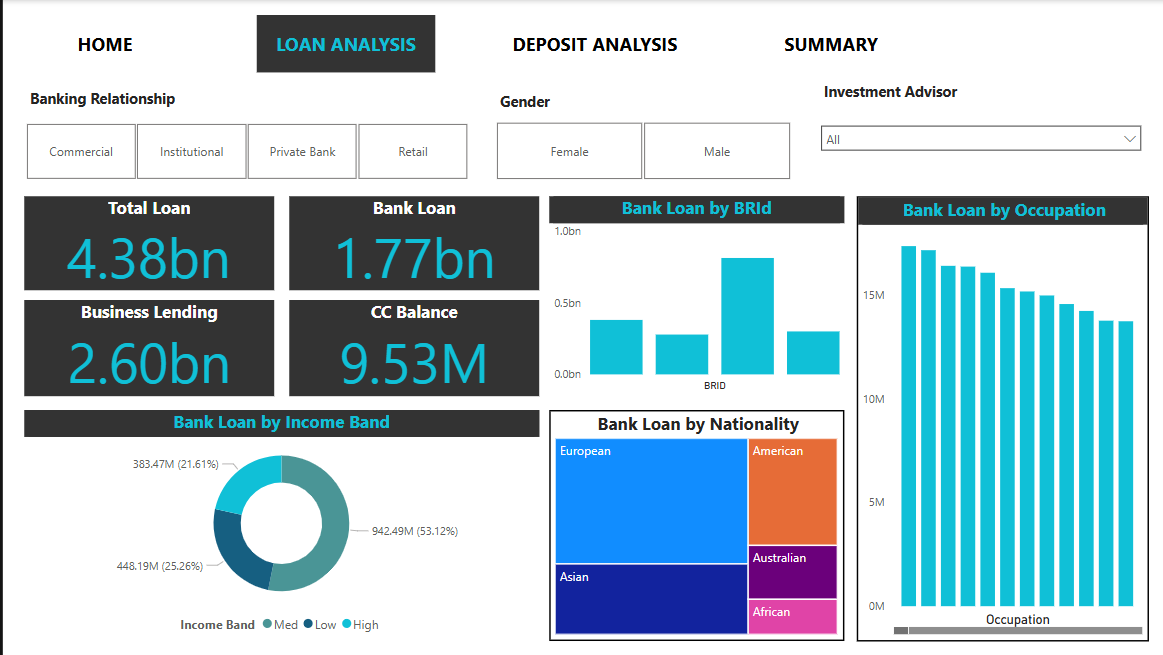

What the dashboard file says about the page in this screenshot:
{"tool":"powerbi","page":{"name":"Loan Analysis","canvas":[1280,720],"ordinal":1},"visuals":[{"type":"actionButton","title":"HOME","box":[551.6,16.5,196.2,63.1],"z":0},{"type":"actionButton","title":"HOME","box":[811,16.5,196.2,63.1],"z":1000},{"type":"actionButton","title":"HOME","box":[13.7,16.5,196.2,63.1],"z":2000},{"type":"actionButton","title":"HOME","box":[278.6,16.5,196.2,63.1],"z":3000},{"type":"card","title":"Total Loan","fields":{"Values":["Measure Table.Total Loan"]},"box":[23.3,215.4,274.4,102.9],"z":4000},{"type":"card","title":"Bank Loan","fields":{"Values":["Sum(Clients - Banking.Bank Loans)"]},"box":[314.2,215.4,274.4,102.9],"z":5000},{"type":"card","title":"CC Balance","fields":{"Values":["Sum(Clients - Banking.Credit Card Balance)"]},"box":[314.2,329.3,274.4,105.7],"z":6000},{"type":"card","title":"Business Lending","fields":{"Values":["Sum(Clients - Banking.Business Lending)"]},"box":[23.3,329.3,274.4,105.7],"z":7000},{"type":"donutChart","title":"Bank Loan by Income Band","fields":{"Category":["Clients - Banking.Income Band"],"Y":["Sum(Clients - Banking.Bank Loans)"]},"box":[23.3,450.1,565.4,253.9],"z":8000},{"type":"clusteredColumnChart","title":"Bank Loan by BRId","fields":{"Category":["Banking Relationship.BRId"],"Y":["Sum(Clients - Banking.Bank Loans)"]},"box":[599.7,215.4,323.8,219.6],"z":9000},{"type":"treemap","title":"Bank Loan by Nationality","fields":{"Group":["Clients - Banking.Nationality"],"Values":["Sum(Clients - Banking.Bank Loans)"]},"box":[599.7,450.1,323.8,253.9],"z":10000},{"type":"clusteredColumnChart","title":"Bank Loan by Occupation","fields":{"Y":["Sum(Clients - Banking.Bank Loans)"],"Category":["Clients - Banking.Occupation"]},"box":[937.2,215.4,321.1,488.5],"z":11000},{"type":"slicer","fields":{"Values":["Banking Relationship.Banking Relationship"]},"box":[0,128.7,533.8,74.1],"z":12000,"group":"g1"},{"type":"slicer","fields":{"Values":["Gender.Gender"]},"box":[515.7,127.6,371.9,75.5],"z":13000,"group":"g1"},{"type":"slicer","fields":{"Values":["Investment Advisor.Investment Advisor"]},"box":[887.5,127.6,371.9,75.5],"z":14000,"group":"g1"},{"type":"textbox","box":[24.8,91.7,491.3,35.7],"z":16000,"group":"g1"},{"type":"textbox","box":[540.4,94.7,322.5,32.9],"z":17000,"group":"g1"},{"type":"textbox","box":[887.5,83.7,362.3,43.9],"z":18000,"group":"g1"},{"type":"group","id":"g1","title":"Group 1","box":[0,83.7,1259.7,119.4],"z":18001}]}

Visuals, with their boxes in screenshot pixels (x1, y1, x2, y2), scaled from the page's 1280x720 canvas onto the 1163x655 screenshot:
"HOME" actionButton: box(501, 15, 679, 72)
"HOME" actionButton: box(737, 15, 915, 72)
"HOME" actionButton: box(12, 15, 191, 72)
"HOME" actionButton: box(253, 15, 431, 72)
"Total Loan" card: box(21, 196, 270, 290)
"Bank Loan" card: box(285, 196, 535, 290)
"CC Balance" card: box(285, 300, 535, 396)
"Business Lending" card: box(21, 300, 270, 396)
"Bank Loan by Income Band" donutChart: box(21, 409, 535, 640)
"Bank Loan by BRId" clusteredColumnChart: box(545, 196, 839, 396)
"Bank Loan by Nationality" treemap: box(545, 409, 839, 640)
"Bank Loan by Occupation" clusteredColumnChart: box(852, 196, 1143, 640)
slicer - Banking Relationship.Banking Relationship: box(0, 117, 485, 184)
slicer - Gender.Gender: box(469, 116, 806, 185)
slicer - Investment Advisor.Investment Advisor: box(806, 116, 1144, 185)
textbox: box(23, 83, 469, 116)
textbox: box(491, 86, 784, 116)
textbox: box(806, 76, 1136, 116)
"Group 1" group: box(0, 76, 1145, 185)
